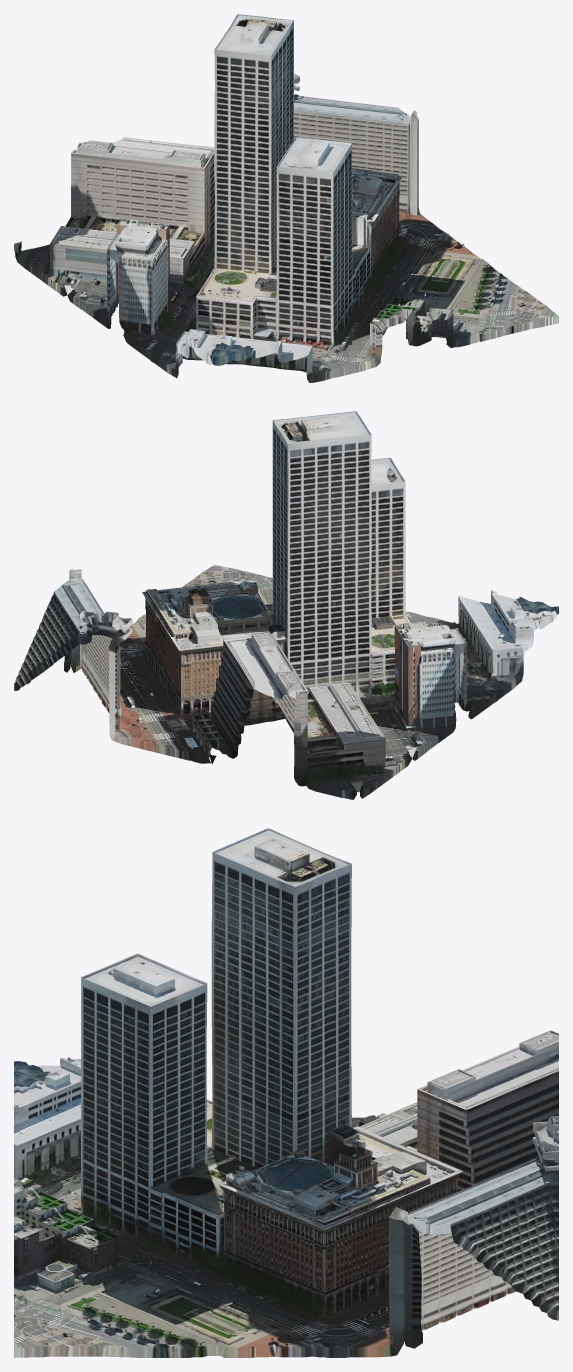
File: z17-20973-50653-h0-yup-uvflip-v3-world.glb
3 renders of one model, top to bottom at view 1: azimuth 30°, elevation 25°; view 2: azimuth 150°, elevation 25°; view 3: azimuth 270°, elevation 25°, orthographic. The views are drawn at different scales.
Bounding box in the file's own units: 241 × 182 × 243.
1 material, 1 textured.
